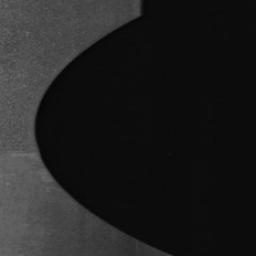Crescent gap: (35, 17, 171, 255)
